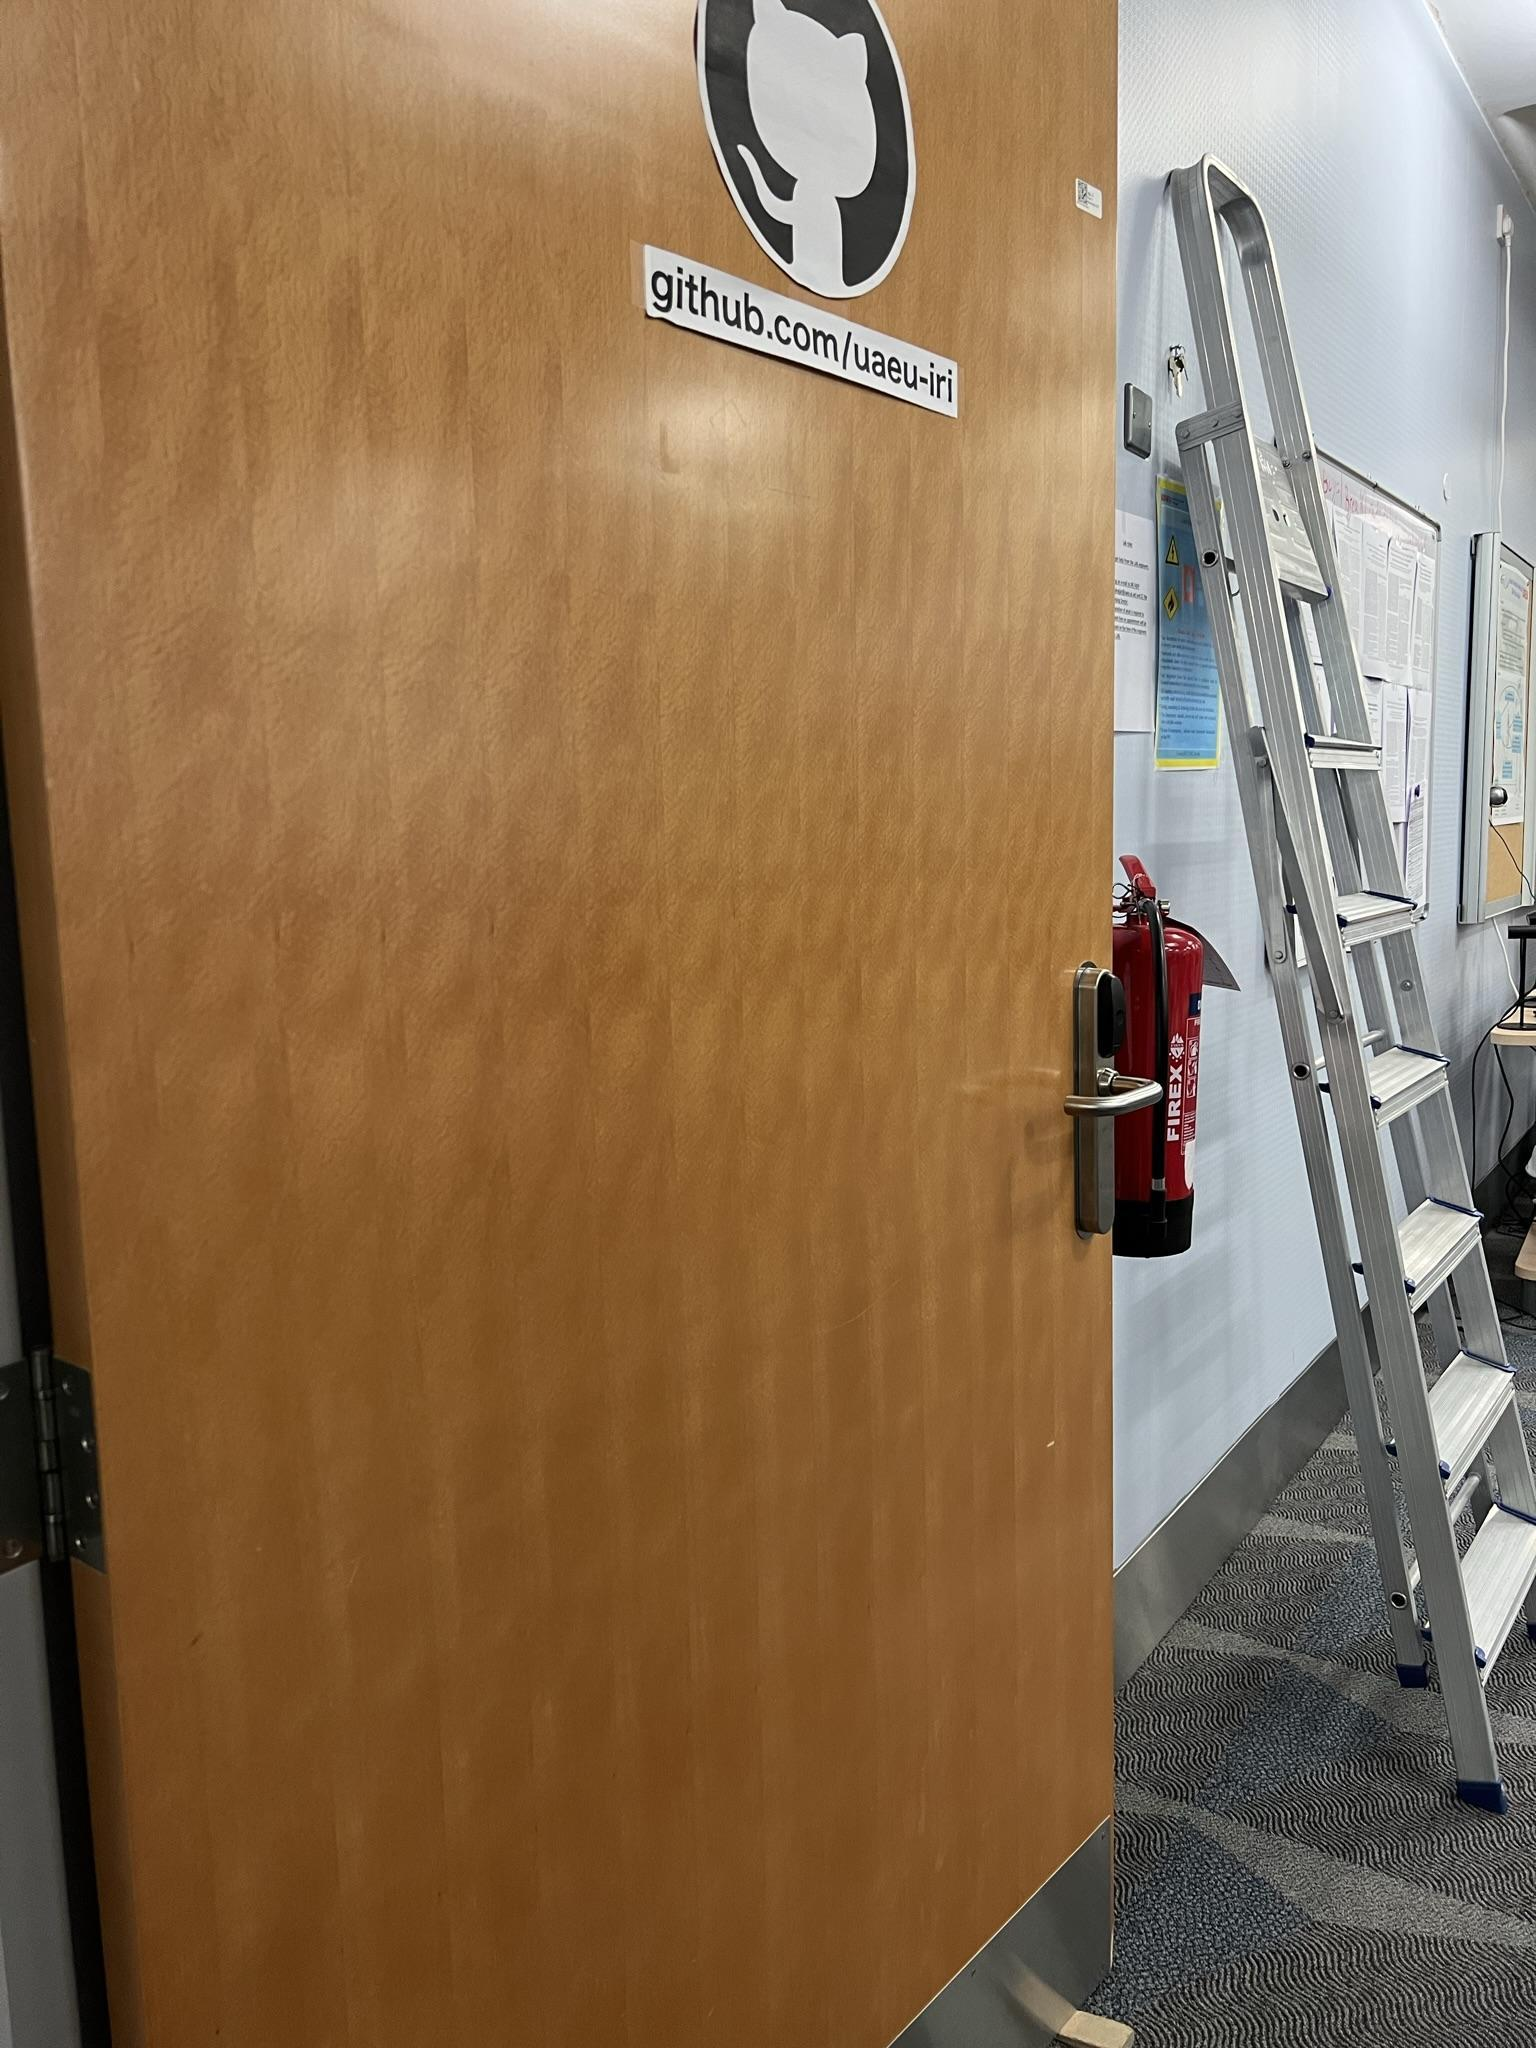door: (23, 0, 1113, 2048)
handle: (1066, 955, 1165, 1243)
